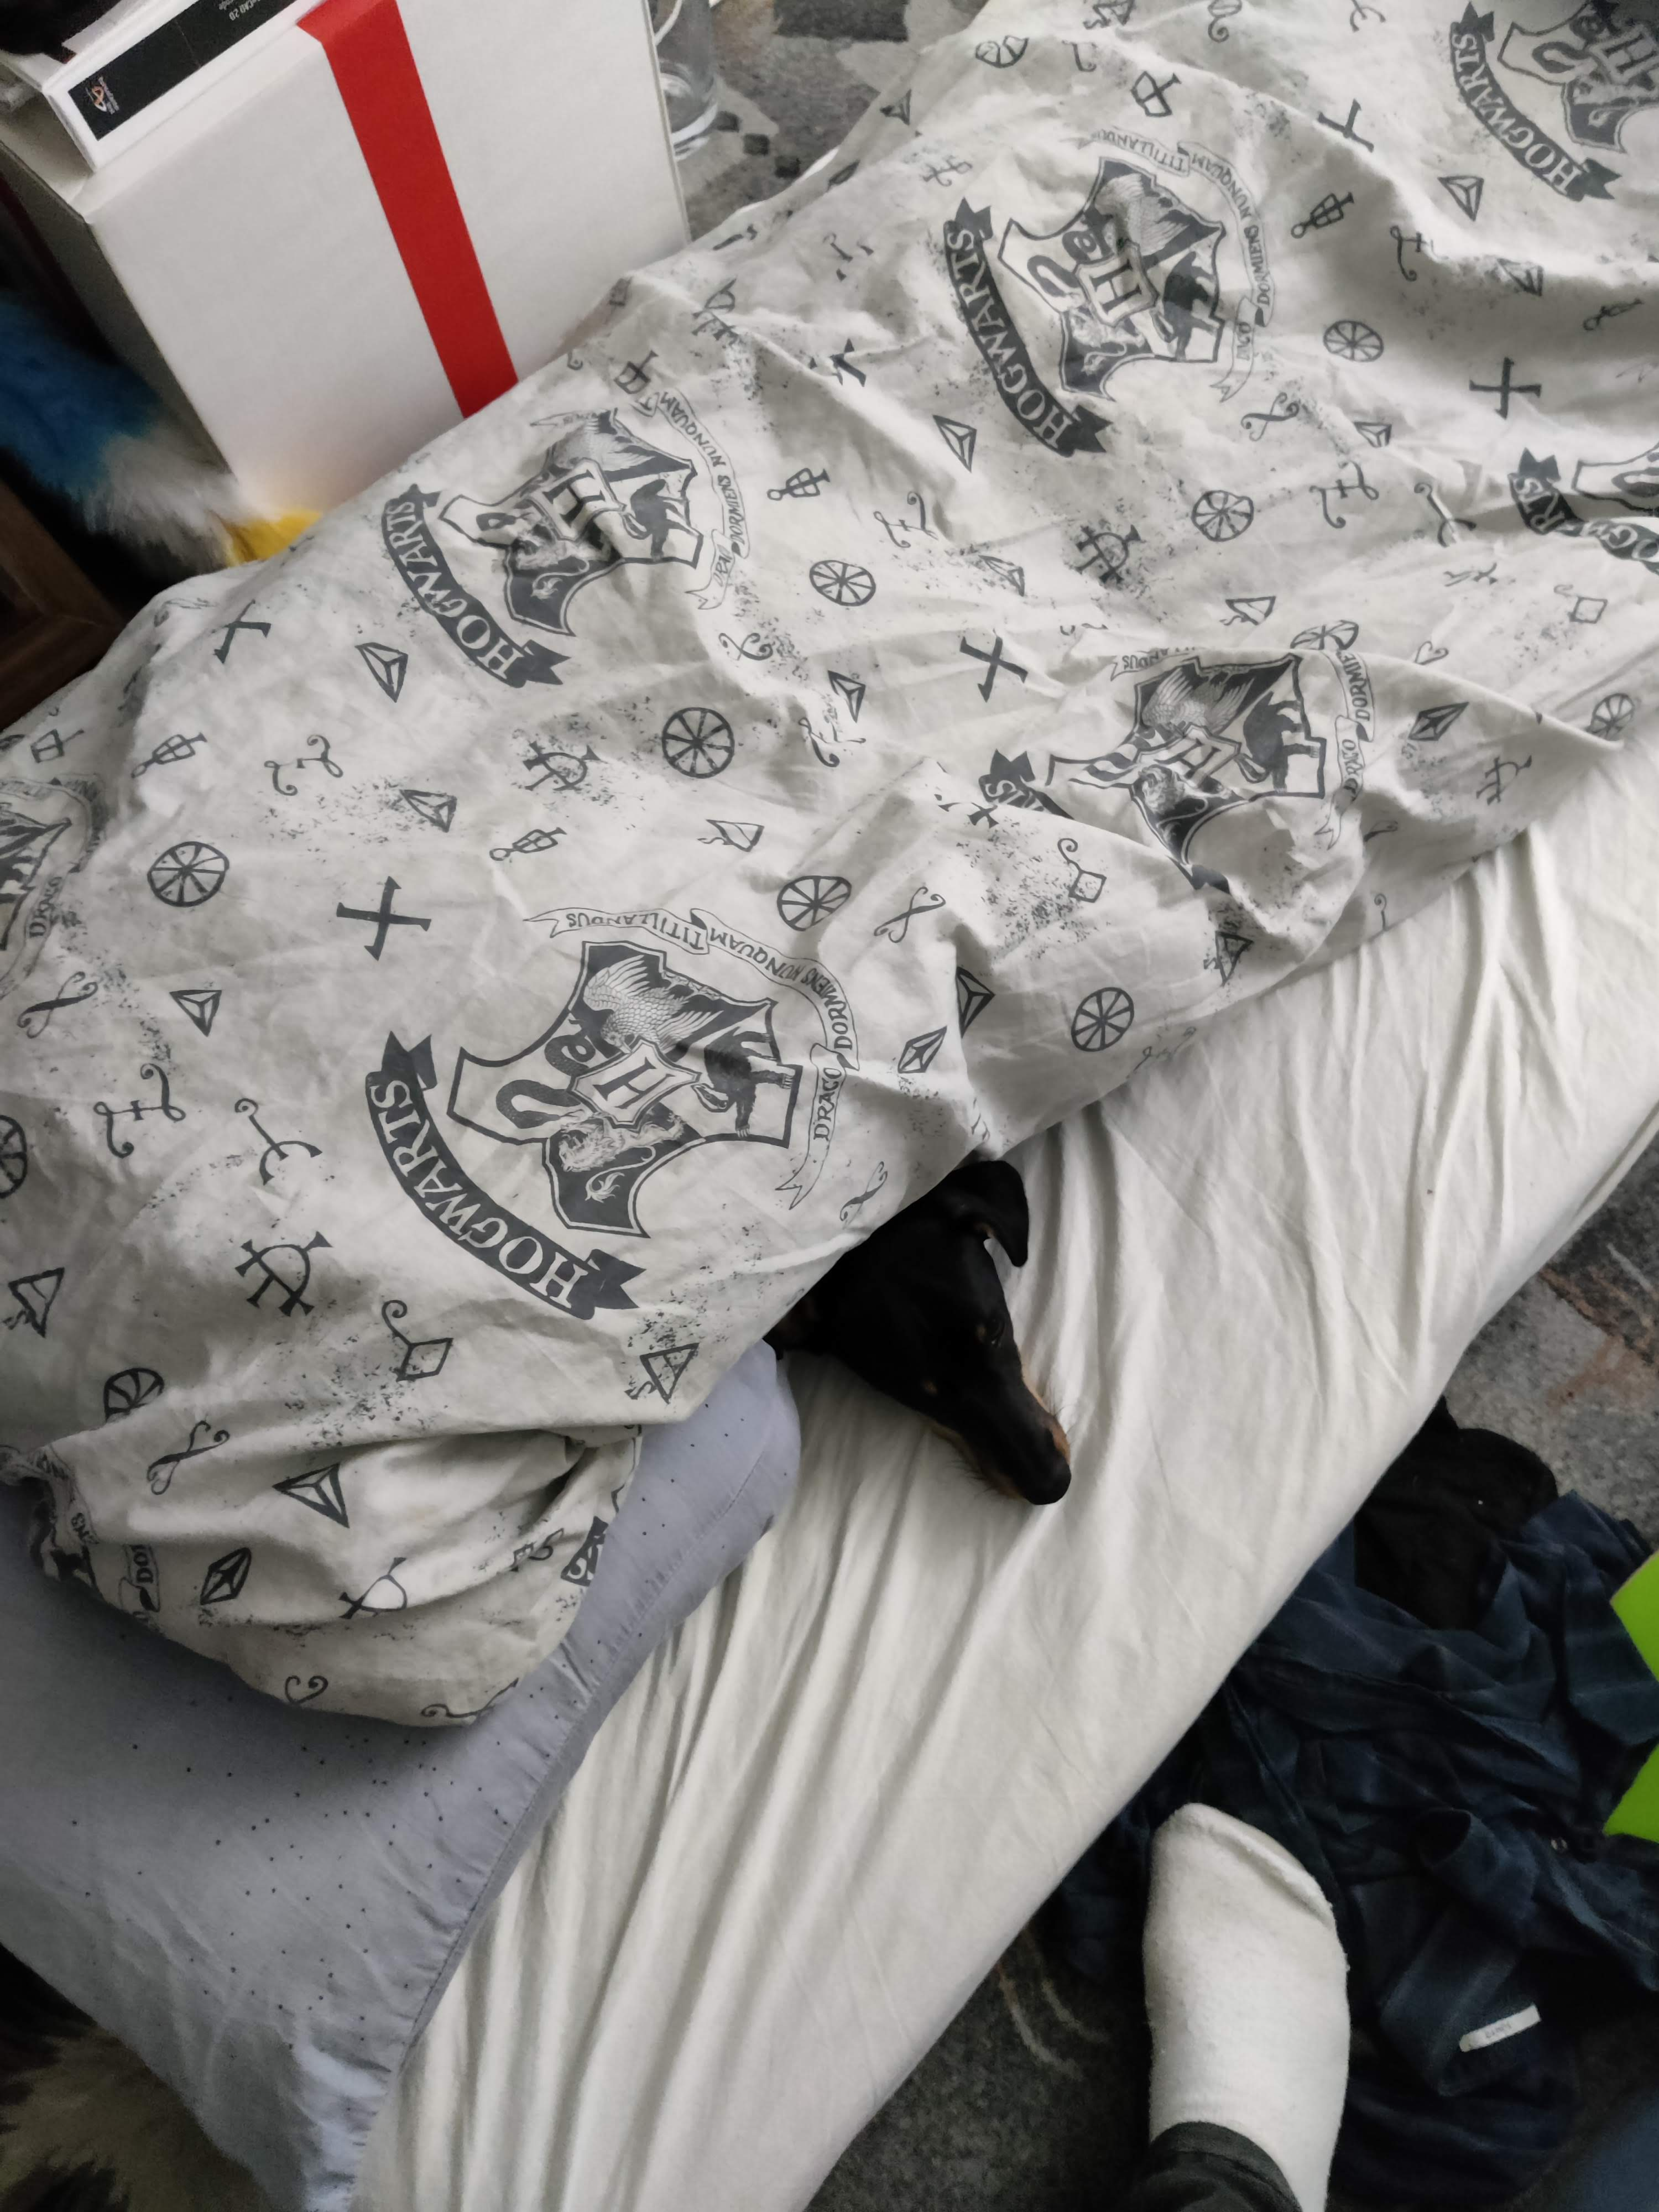Dog: (762, 1143, 1100, 1510)
